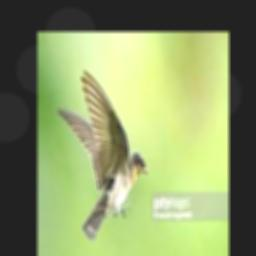Swallow: (57, 71, 149, 241)
